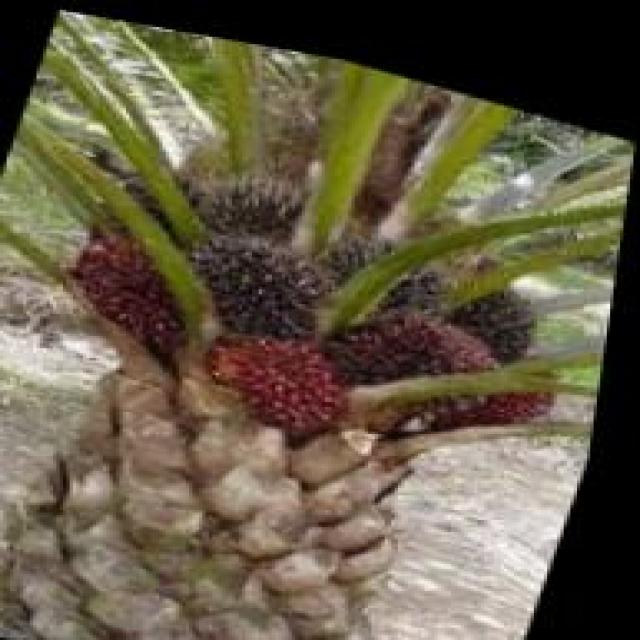Ripefruit: (45, 213, 227, 353), (209, 312, 365, 426), (342, 278, 510, 379)
